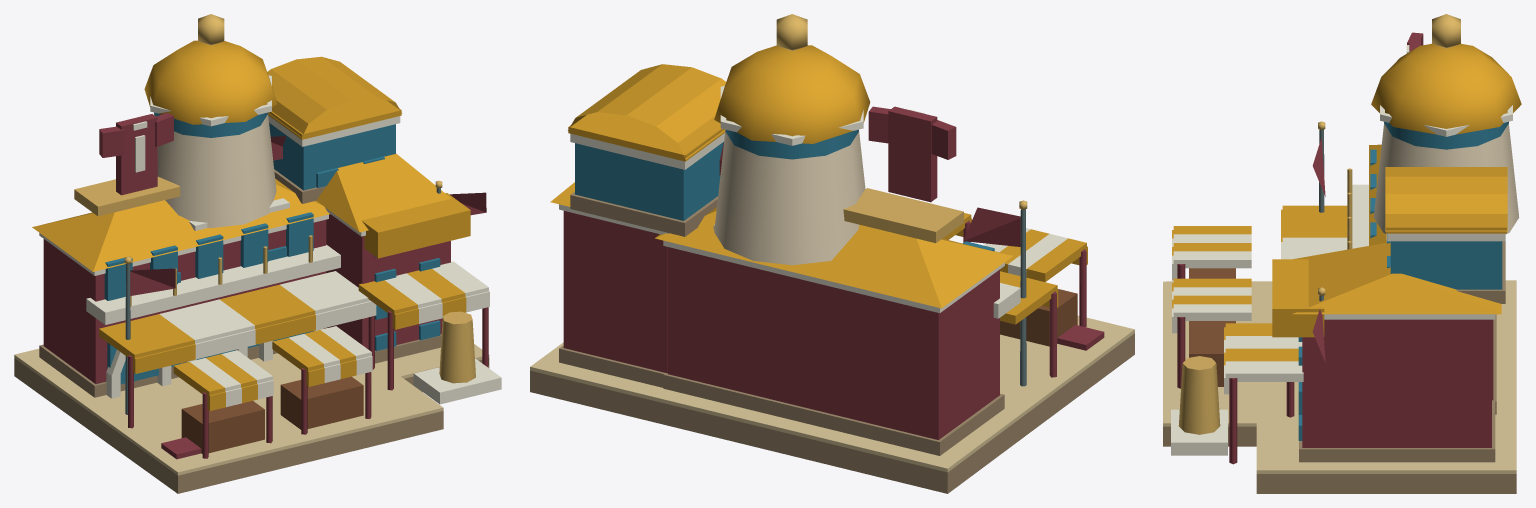
The model's file is club-shop-lv5.glb.
The picture shows the model from 3 angles, left to right: view 1: azimuth 30°, elevation 25°; view 2: azimuth 150°, elevation 25°; view 3: azimuth 270°, elevation 25°; orthographic projection. The views are drawn at different scales.
Visible parts, largest first — view 1: foundation_sand, awnings_ochre, flagship_rotunda_cream, awnings_white, market_row_burgundy, market_row_roof_ochre, foundation_stoneDark, flagship_dome_ochre, showroom_roof_ochre, market_stalls_wood, shop_balcony_white, retail_corner_roof_ochre (+25 smaller); view 2: market_row_burgundy, flagship_rotunda_cream, retail_corner_burgundy, foundation_sand, foundation_stoneDark, flagship_dome_ochre, market_row_roof_ochre, showroom_roof_ochre, showroom_glass, jersey_sign_burgundy, market_row_stoneDark, sign_plinth_gold (+15 smaller); view 3: retail_corner_burgundy, foundation_sand, flagship_dome_ochre, retail_corner_roof_ochre, showroom_roof_ochre, awnings_white, awnings_ochre, foundation_stoneDark, showroom_glass, flagship_rotunda_cream, corner_gate_ochre, retail_corner_stoneDark (+17 smaller).
Boxes of the visible parts, box(x1,y1,x2,y2) form: foundation_sand: box(14, 344, 489, 475); awnings_ochre: box(99, 269, 465, 398); flagship_rotunda_cream: box(154, 114, 276, 228); awnings_white: box(159, 261, 488, 391); market_row_burgundy: box(43, 219, 326, 383); market_row_roof_ochre: box(32, 179, 329, 271); foundation_stoneDark: box(14, 358, 489, 493); flagship_dome_ochre: box(144, 40, 277, 124); showroom_roof_ochre: box(267, 56, 402, 139); market_stalls_wood: box(181, 376, 363, 453); shop_balcony_white: box(86, 244, 340, 324); retail_corner_roof_ochre: box(316, 153, 451, 232); market_row_burgundy: box(668, 247, 999, 439); flagship_rotunda_cream: box(714, 131, 865, 265); retail_corner_burgundy: box(563, 211, 667, 373); foundation_sand: box(530, 315, 1134, 472); foundation_stoneDark: box(530, 333, 1134, 493); flagship_dome_ochre: box(714, 45, 870, 143); market_row_roof_ochre: box(655, 207, 1012, 308); showroom_roof_ochre: box(568, 64, 726, 161); showroom_glass: box(575, 142, 723, 220); jersey_sign_burgundy: box(868, 106, 956, 202); market_row_stoneDark: box(663, 374, 1004, 455); sign_plinth_gold: box(843, 188, 963, 243); retail_corner_burgundy: box(1302, 319, 1491, 447); foundation_sand: box(1163, 280, 1516, 473); flagship_dome_ochre: box(1371, 43, 1521, 134); retail_corner_roof_ochre: box(1292, 242, 1501, 314); showroom_roof_ochre: box(1385, 167, 1507, 233); awnings_white: box(1173, 234, 1347, 381); awnings_ochre: box(1173, 205, 1347, 361); foundation_stoneDark: box(1163, 426, 1516, 493); showroom_glass: box(1390, 241, 1502, 289); flagship_rotunda_cream: box(1373, 123, 1519, 234); corner_gate_ochre: box(1272, 259, 1324, 337); retail_corner_stoneDark: box(1299, 401, 1495, 462).
Size of the model in its own units: 1 by 0.8578 by 0.738.
